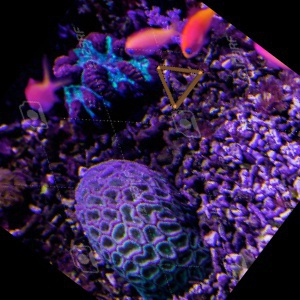triangle: (154, 62, 207, 111)
